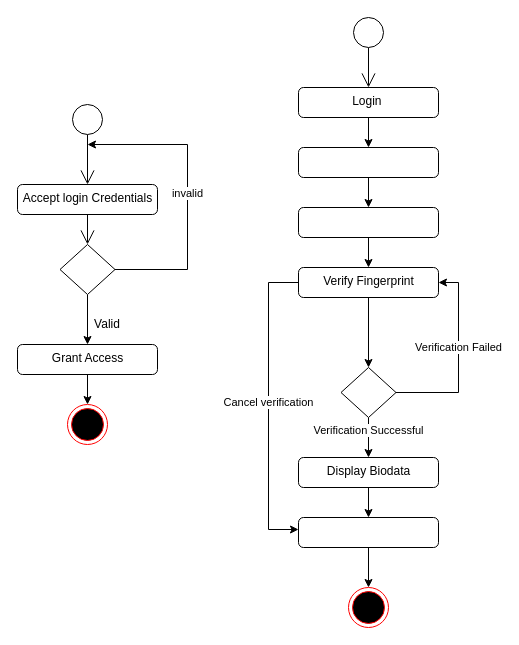
The diagram is 519 pixels wide and 645 high, and some of its shapes have lost their labels. The centre of each missing label's shape, as x and y in pixels:
"Accept Fingerprint" goes at (x=368, y=222).
"Logout" goes at (x=368, y=532).
"Select Verify Student" goes at (x=368, y=162).
